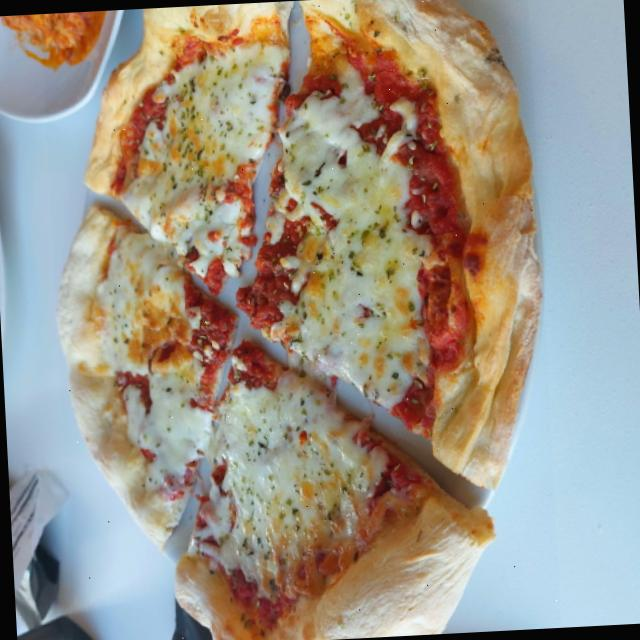pizza: (56, 0, 536, 640)
